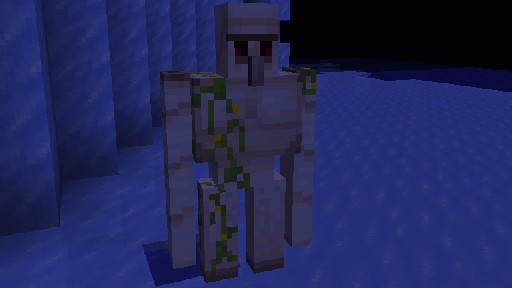iron_golem: (159, 1, 316, 283)
